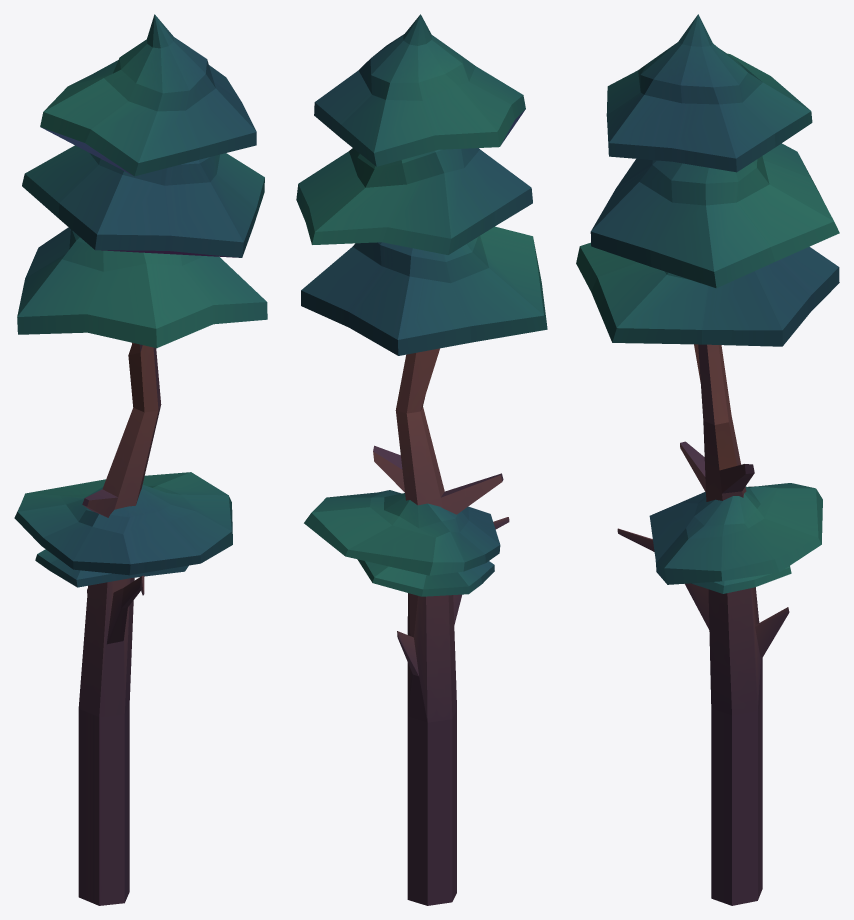
File: Tree_Pine03.fbx
3 views of the same model, side by side, from view 1: azimuth 30°, elevation 25°; view 2: azimuth 150°, elevation 25°; view 3: azimuth 270°, elevation 25° (orthographic). The views are drawn at different scales.
Parts seen in each view (by area): view 1: TolTreeTrunk3; view 2: TolTreeTrunk3; view 3: TolTreeTrunk3.
Part boxes in pixels (box(x1,y1,x2,y2)): TolTreeTrunk3: box(14, 14, 267, 905); TolTreeTrunk3: box(296, 14, 547, 905); TolTreeTrunk3: box(576, 14, 839, 905).
Bounding box in the file's own units: 180 × 606 × 162.
